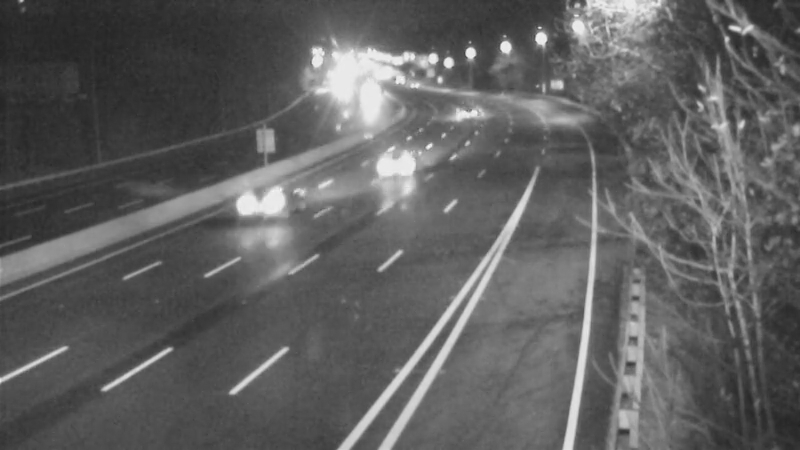vehicle: (365, 120, 445, 200), (227, 165, 307, 245), (391, 60, 441, 110), (442, 89, 492, 139)
